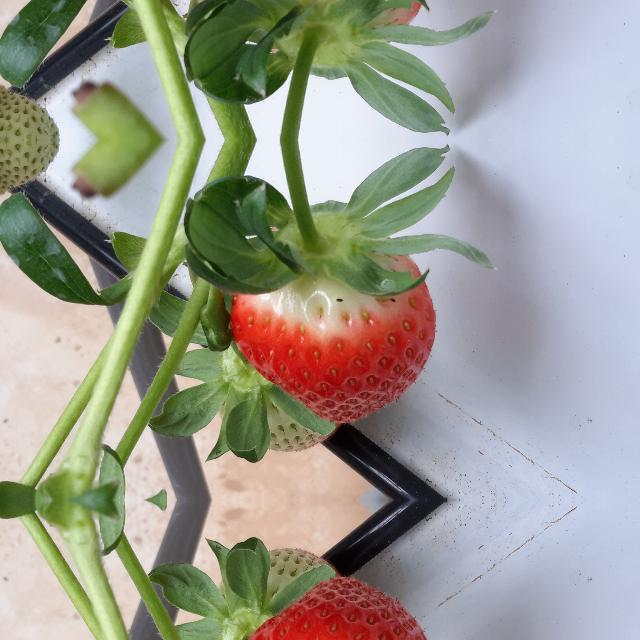Health_100: (228, 236, 438, 424), (228, 576, 437, 640), (228, 0, 437, 43)
